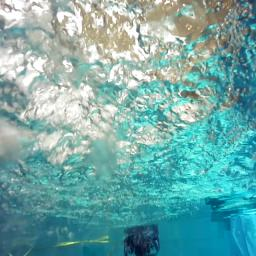Full: (123, 230, 161, 256), (124, 231, 160, 256)
